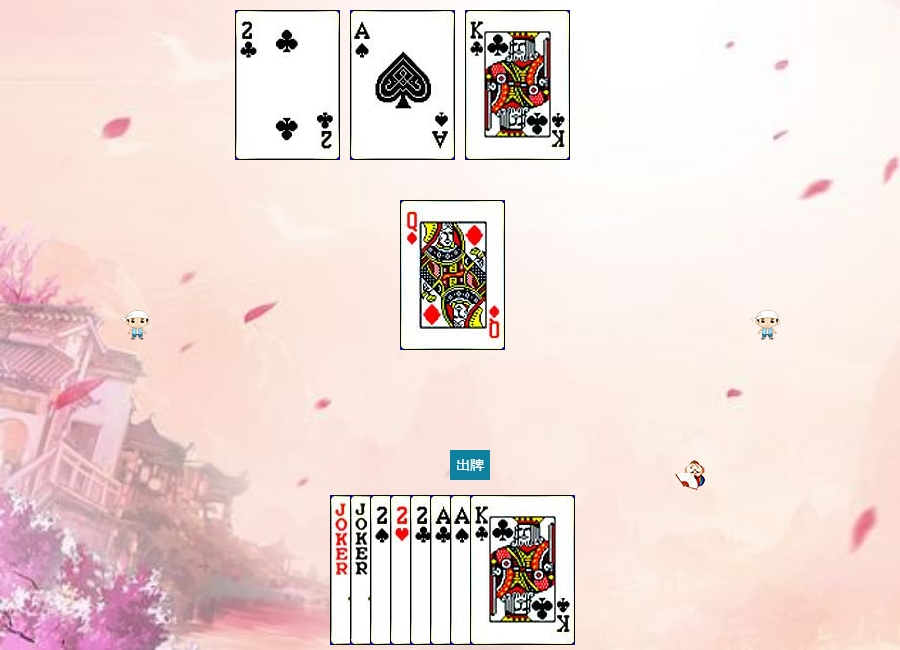12~1: (400, 200, 505, 350)
13~2: (465, 10, 570, 160), (470, 495, 575, 645)
14~2: (430, 495, 535, 645)
14~4: (350, 10, 455, 160), (450, 495, 555, 645)
15~2: (235, 10, 340, 160), (410, 495, 515, 645)
15~3: (390, 495, 495, 645)
15~4: (370, 495, 475, 645)
17~3: (350, 495, 455, 645)
18~4: (330, 495, 435, 645)
